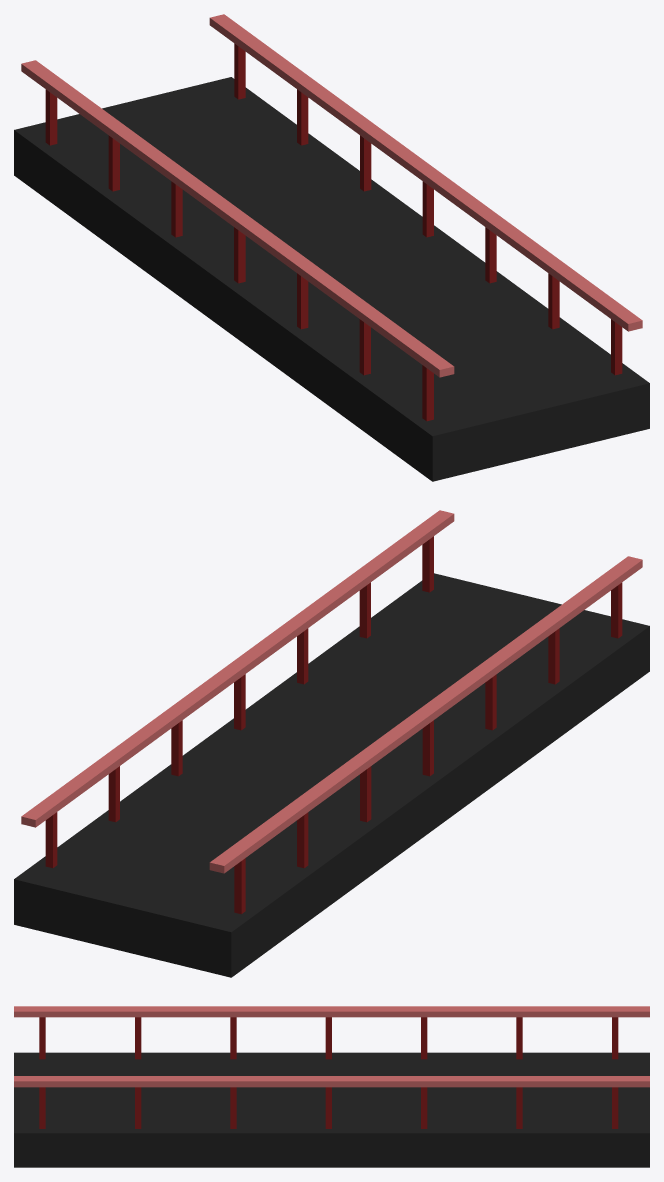
Rendered from Platform_mid.fbx.
3 views of the same model, one above another, from view 1: azimuth 30°, elevation 25°; view 2: azimuth 150°, elevation 25°; view 3: azimuth 270°, elevation 25° (orthographic). The views are drawn at different scales.
Visible parts, largest first — view 1: Boden, Gelaender, GelaenderStuzen; view 2: Boden, Gelaender, GelaenderStuzen; view 3: Boden, Gelaender, GelaenderStuzen.
Boxes of the visible parts, <box> form: Boden: <box>14,77,649,481</box>; Gelaender: <box>21,14,642,377</box>; GelaenderStuzen: <box>45,43,622,421</box>; Boden: <box>14,573,649,977</box>; Gelaender: <box>21,510,642,873</box>; GelaenderStuzen: <box>45,536,622,914</box>; Boden: <box>14,1052,649,1167</box>; Gelaender: <box>14,1006,649,1087</box>; GelaenderStuzen: <box>39,1017,618,1128</box>.
Size of the model in its own units: 300 by 145 by 1000.
